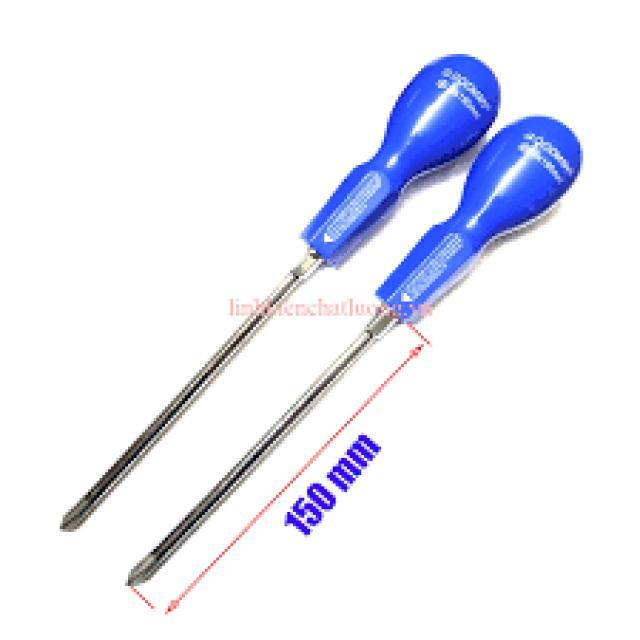screwdriver: (44, 52, 505, 544), (118, 112, 579, 590)
